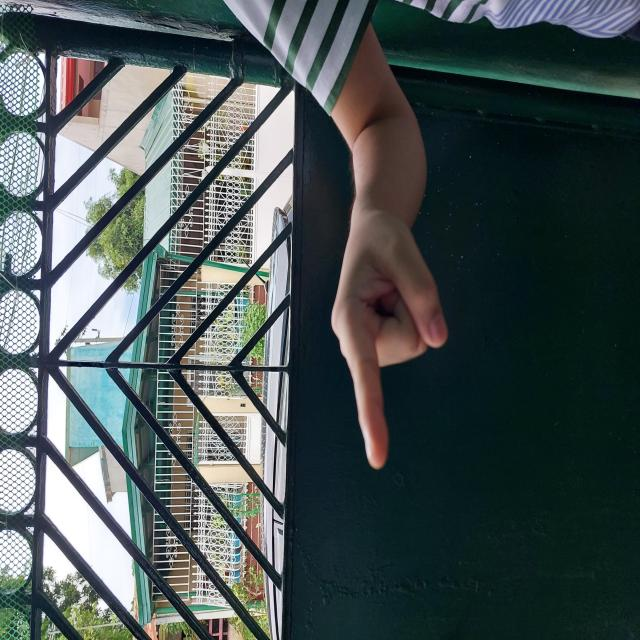Z: (301, 212, 514, 479)
